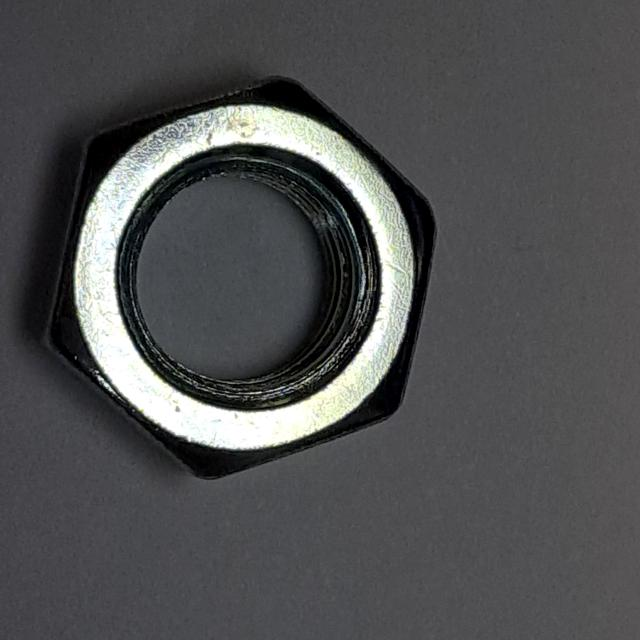Excellent: (29, 59, 452, 494)
